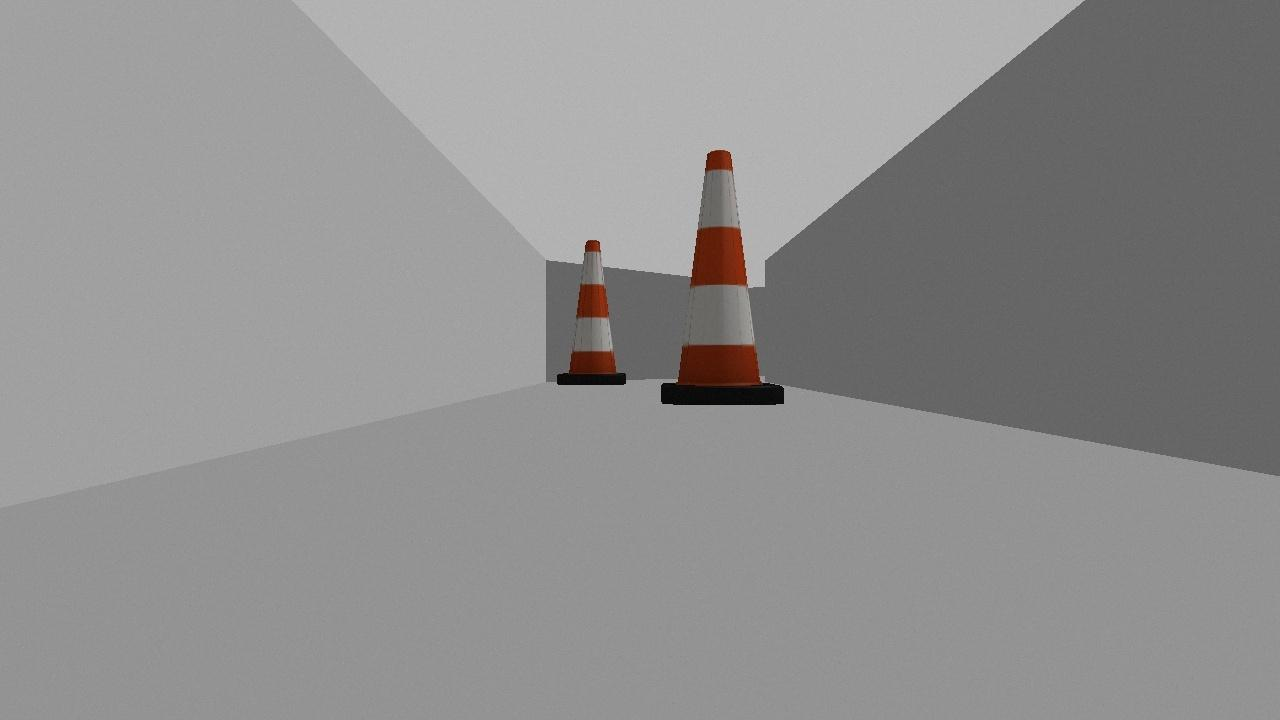cone_barrel: (652, 146, 792, 411), (552, 235, 630, 389)
